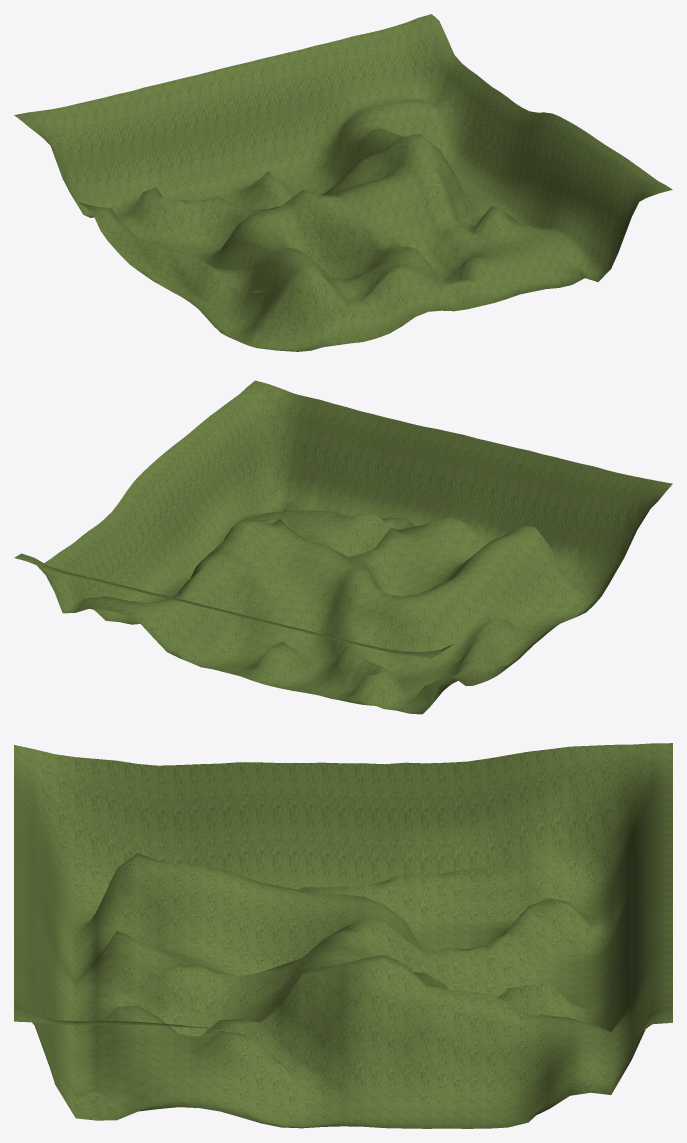
File: hightfield.gltf
The picture shows the model from 3 angles, top to bottom: view 1: azimuth 30°, elevation 25°; view 2: azimuth 150°, elevation 25°; view 3: azimuth 270°, elevation 25°; orthographic projection. The views are drawn at different scales.
Parts seen in each view (by area): view 1: t2; view 2: t2; view 3: t2.
Part boxes in pixels (x1=…): t2: x1=14, y1=14, x2=672, y2=351; t2: x1=14, y1=380, x2=672, y2=714; t2: x1=14, y1=743, x2=672, y2=1128.
Size of the model in its own units: 2 by 0.475 by 2.
Materials: 1 (1 with a texture image).
